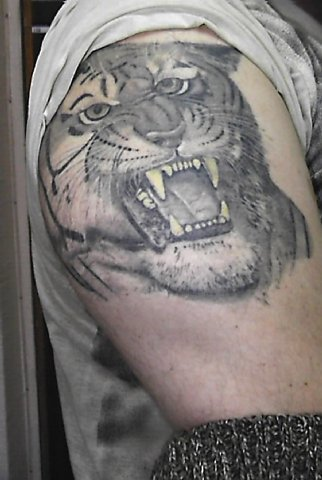tatu5_tigr: (43, 46, 312, 298)
